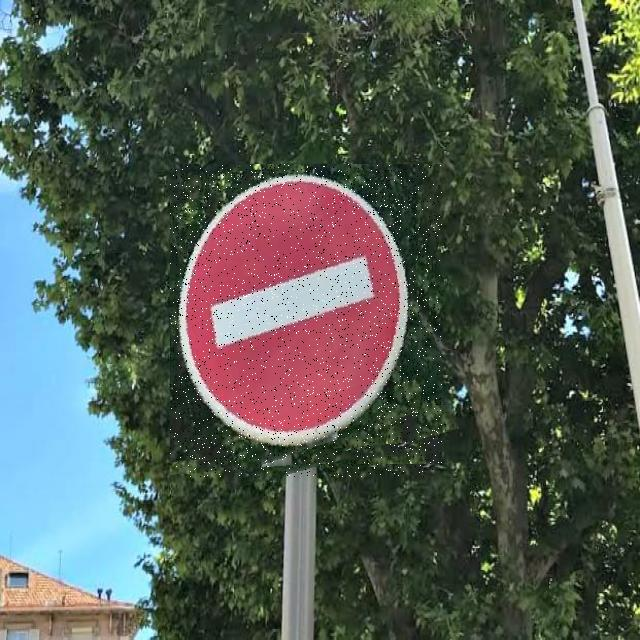no entry: (170, 164, 442, 477)
